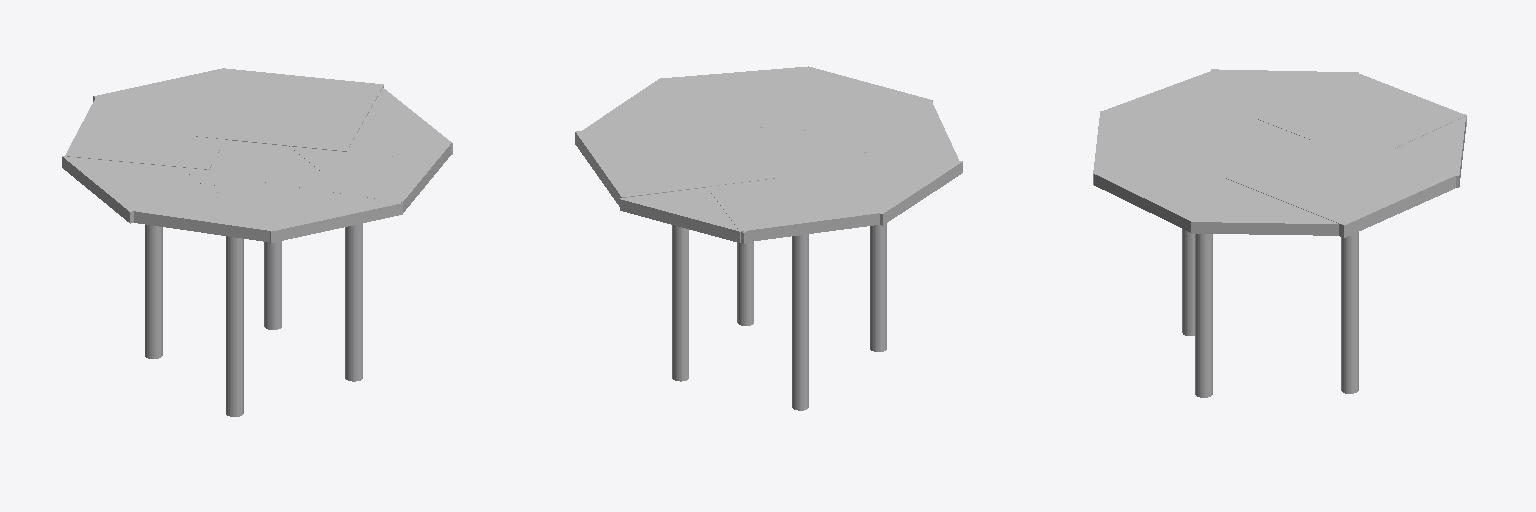
Rendered from octogonal.obj.
3 renders of one model, left to right at view 1: azimuth 30°, elevation 25°; view 2: azimuth 150°, elevation 25°; view 3: azimuth 270°, elevation 25°, orthographic.
Visible parts, largest first — view 1: Cylinder; view 2: Cylinder; view 3: Cylinder.
Boxes of the visible parts, box(x1,y1,x2,y2) form: Cylinder: box(62, 68, 452, 416); Cylinder: box(575, 66, 962, 410); Cylinder: box(1093, 69, 1466, 397).
Size of the model in its own units: 1.63 by 1.06 by 1.65.